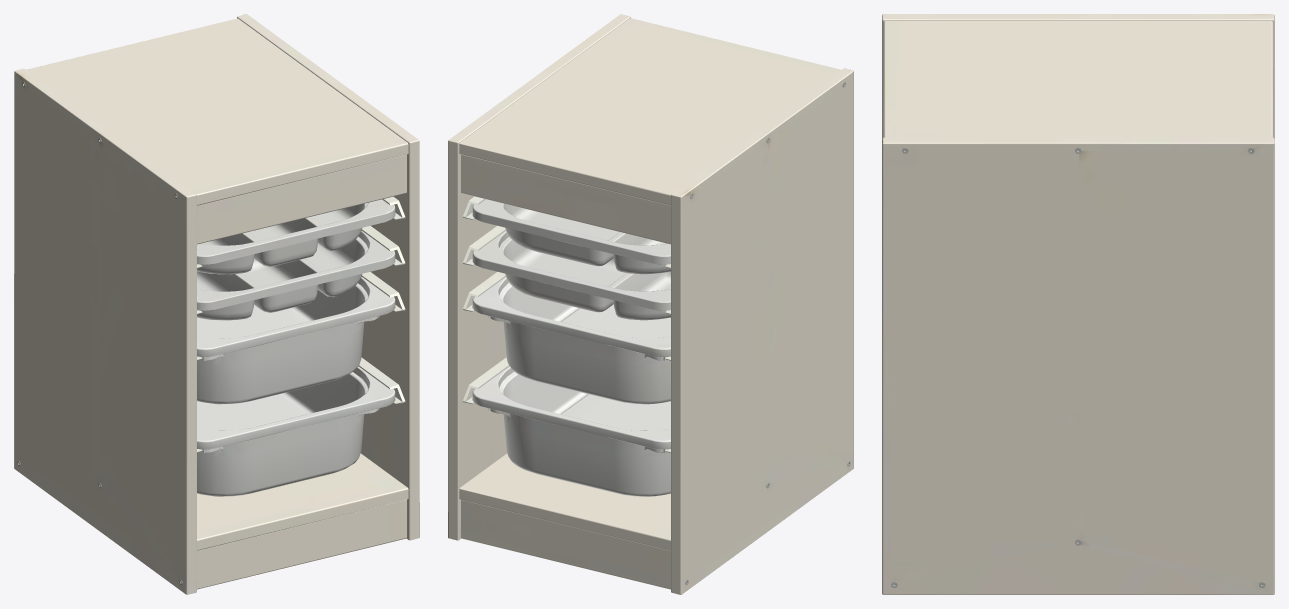
Rendered from trofast_rega_z_pojemnikami_tace_39573248.glb.
The picture shows the model from 3 angles, left to right: view 1: azimuth 30°, elevation 25°; view 2: azimuth 150°, elevation 25°; view 3: azimuth 270°, elevation 25°; orthographic projection. The views are drawn at different scales.
Parts seen in each view (by area): view 1: trofast_rega_z_pojemnikami_tace_39573248; view 2: trofast_rega_z_pojemnikami_tace_39573248; view 3: trofast_rega_z_pojemnikami_tace_39573248.
Boxes of the visible parts, left/top/right/bottom form: trofast_rega_z_pojemnikami_tace_39573248: left=14, top=14, right=419, bottom=594; trofast_rega_z_pojemnikami_tace_39573248: left=448, top=14, right=853, bottom=594; trofast_rega_z_pojemnikami_tace_39573248: left=882, top=14, right=1274, bottom=594.
Bounding box in the file's own units: 0.341 × 0.5535 × 0.4359.
Materials: 1 (1 with a texture image).
